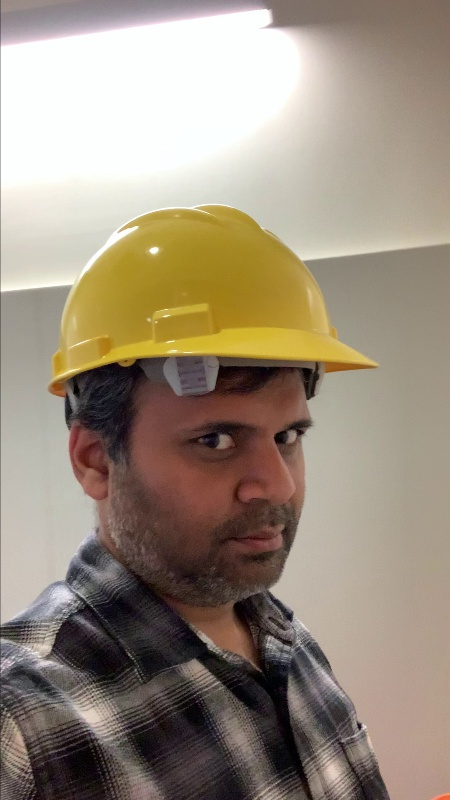helmet: (65, 204, 353, 357)
